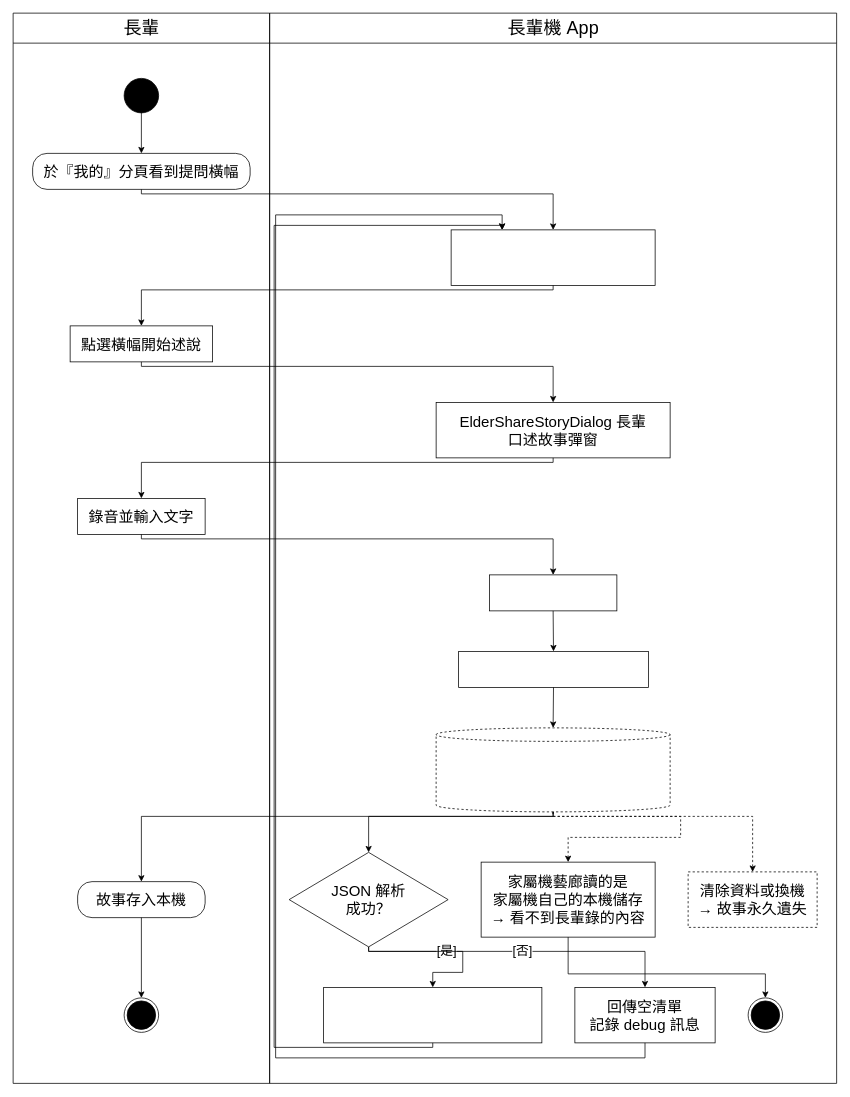
This 850x1097 diagram has some shape labels left out. The centre of each missing label's shape, as x and y in pixels:
"ElderStoryPromptBanner MemoirService 題庫輪播" belongs at pixel 552 257.
"record 錄音" belongs at pixel 553 592.
"SharedPreferences 鍵：uban_memoirs_{elderId} ★ 僅存於本機，無後端" belongs at pixel 552 769.
"組成 MemoirStory 物件" belongs at pixel 553 669.
"過濾示範假資料 memoir_00* 並回寫清理結果" belongs at pixel 432 1015.
